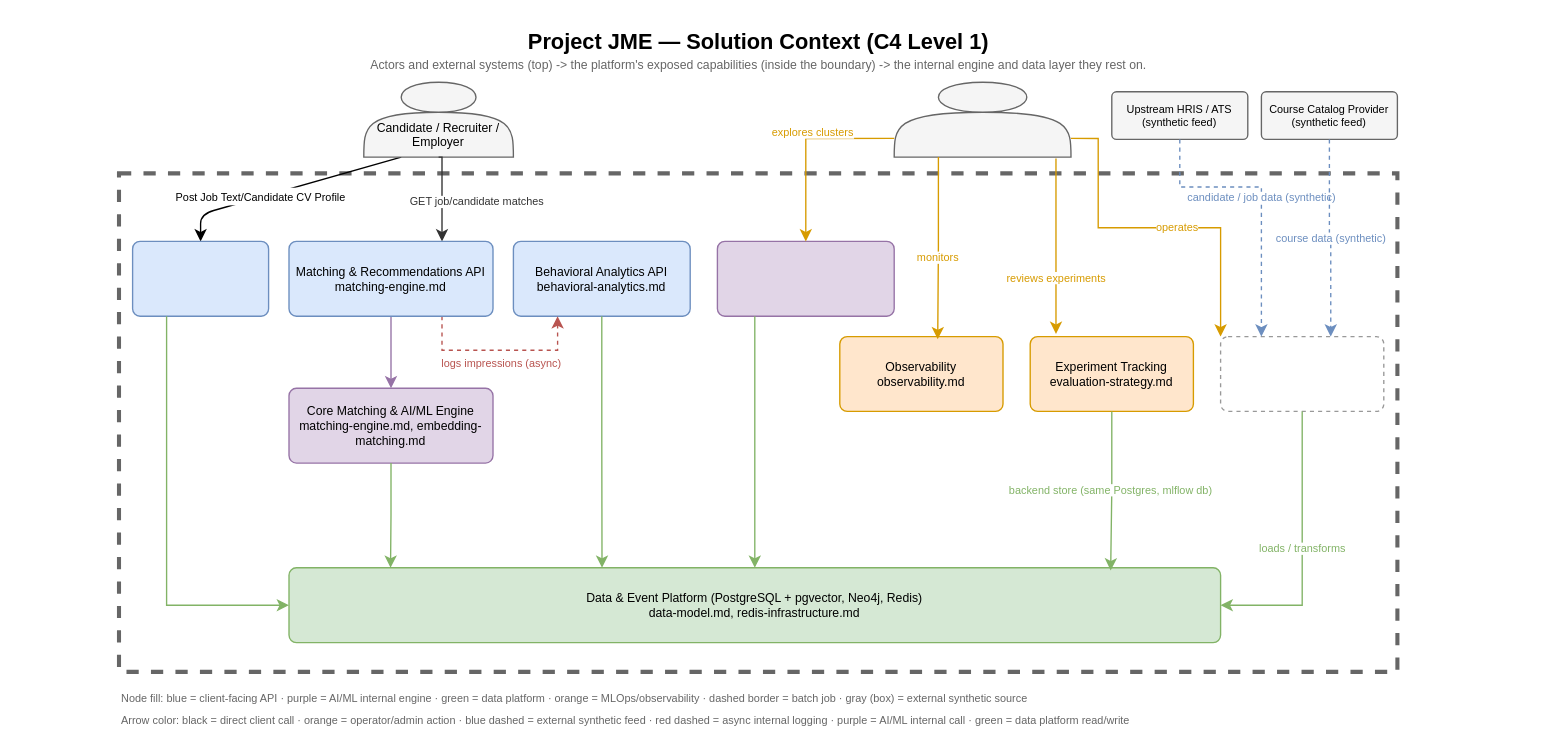
The diagram is 1556 pixels wide and 753 high, and some of its shapes have lost their labels. The shapes that lost their labels are listed below. From the top down, each one's centre as x and y in pixels, then its label:
point 982,119: Data / ML Engineer
point 200,278: Skill Extraction API skill-extraction.md
point 805,278: Knowledge Graph Explorer knowledge-graph.md
point 1301,373: Batch Pipelines data-at-scale.md
